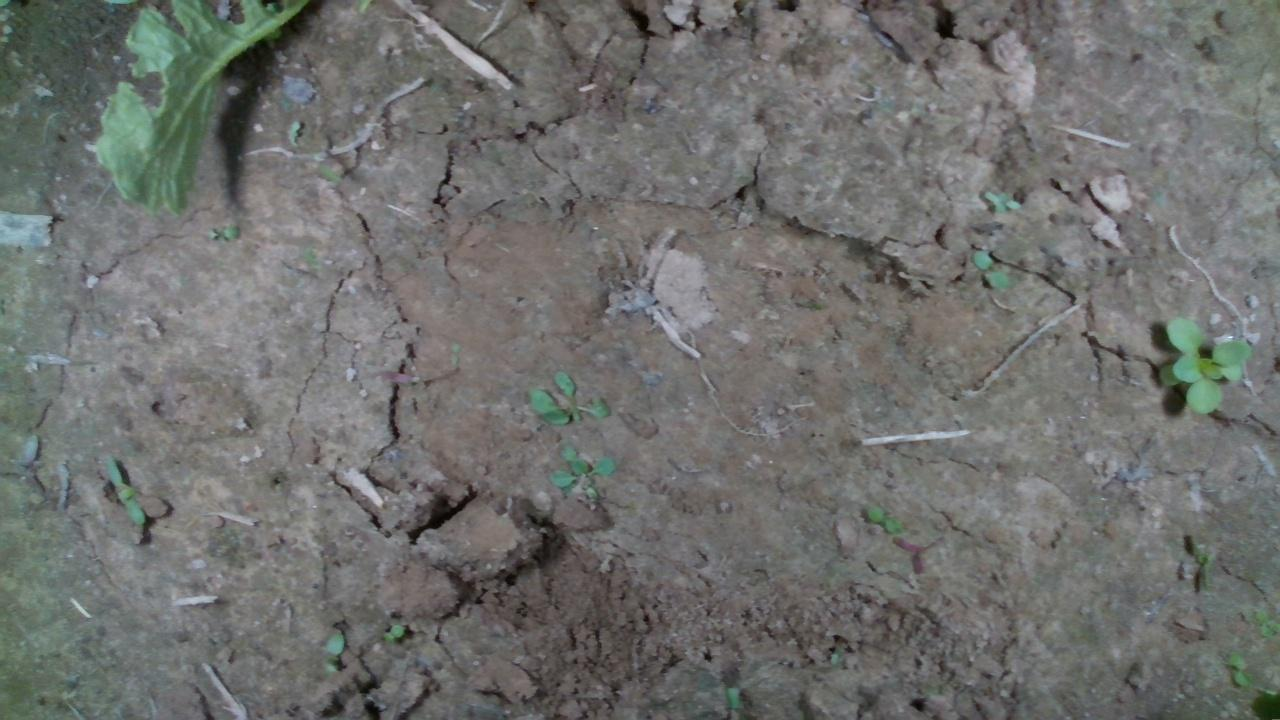weed: (101, 453, 144, 524), (971, 248, 1010, 290), (863, 502, 904, 534), (983, 188, 1020, 215)
